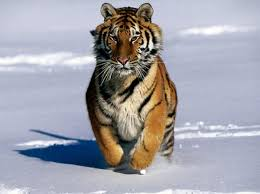Tigrew: (77, 5, 195, 176)
